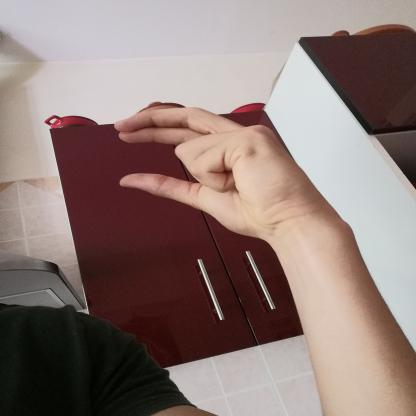DHELL: (101, 98, 344, 244)
